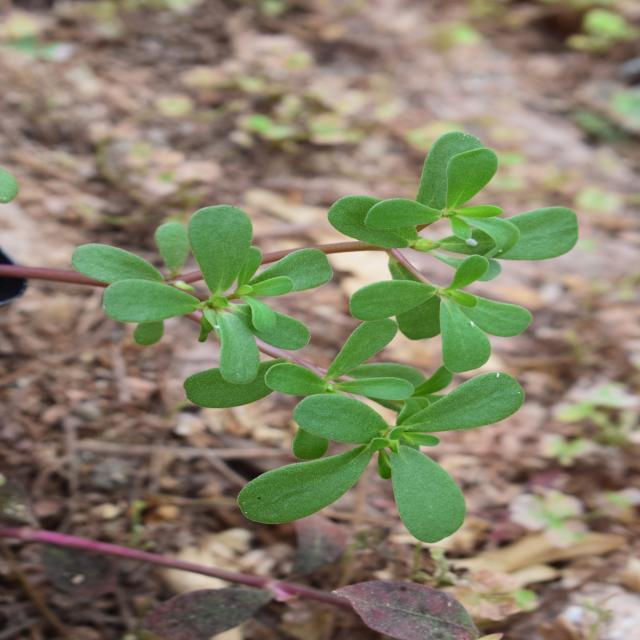purslane: (140, 37, 536, 567)
